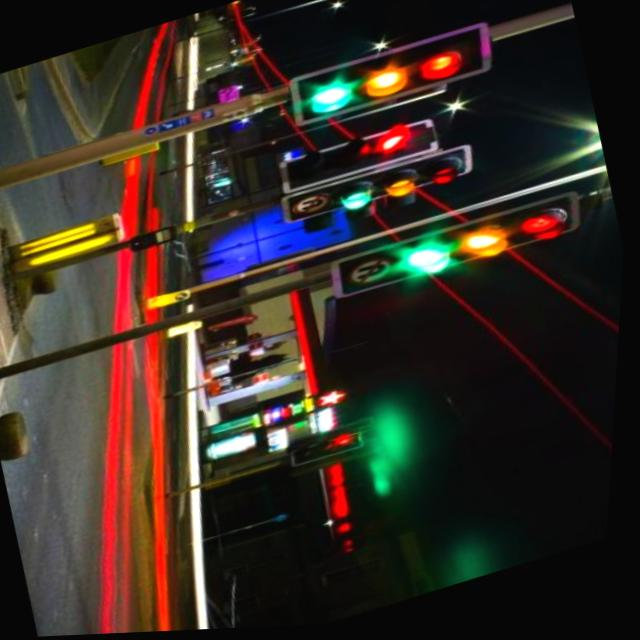Hijau: (402, 244, 451, 276), (307, 86, 351, 114), (344, 193, 372, 210)
Kuning: (359, 68, 409, 98), (463, 230, 509, 259), (385, 180, 419, 203)
Merah: (417, 53, 464, 86), (520, 213, 569, 243), (377, 134, 411, 157)
